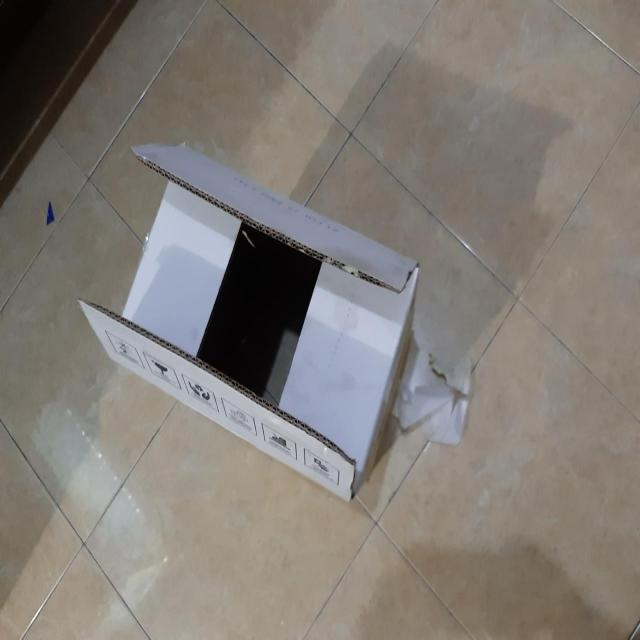Kardus: (77, 139, 421, 503)
